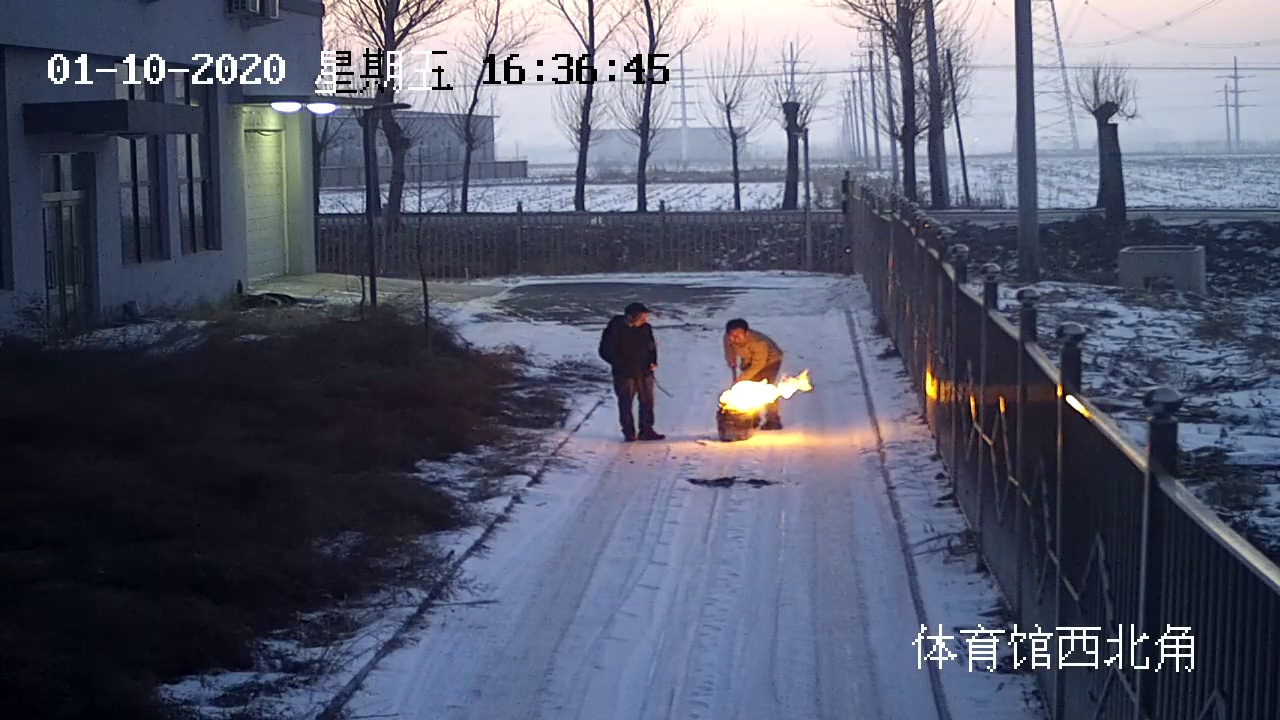fire: (713, 363, 816, 417)
